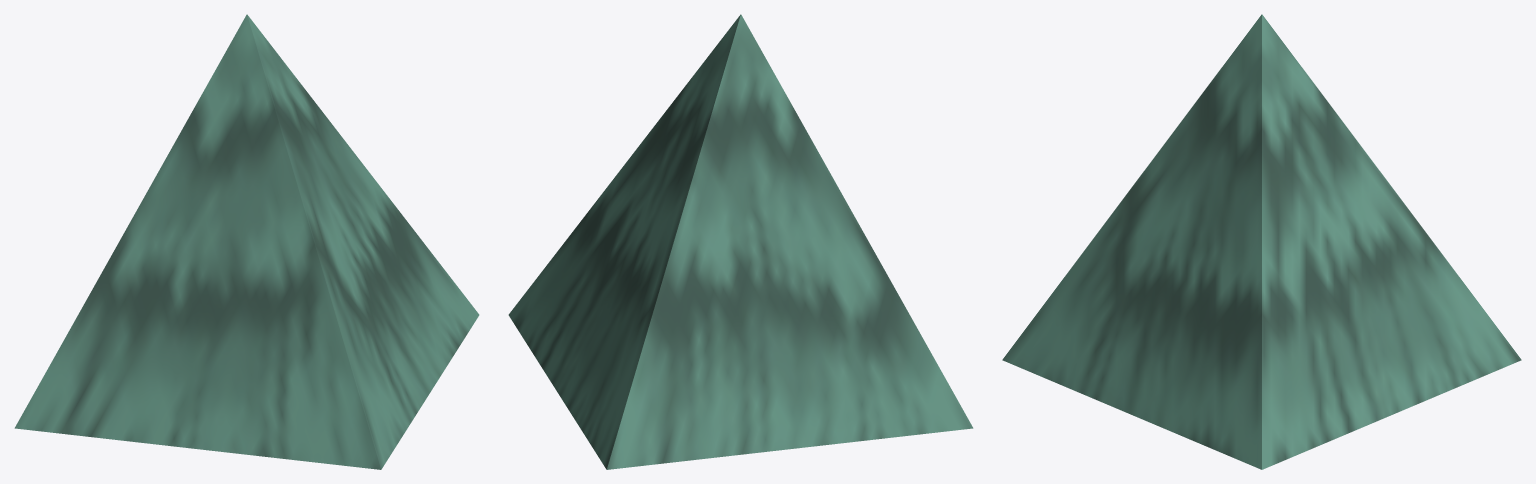
File: env_Coniferous_Part_C.FBX
The picture shows the model from 3 angles, left to right: view 1: azimuth 30°, elevation 25°; view 2: azimuth 150°, elevation 25°; view 3: azimuth 270°, elevation 25°; orthographic projection. The views are drawn at different scales.
Parts seen in each view (by area): view 1: env_Coniferous_Part_C; view 2: env_Coniferous_Part_C; view 3: env_Coniferous_Part_C.
Boxes of the visible parts, x1,y1,x2,y2 form: env_Coniferous_Part_C: [14, 14, 479, 469]; env_Coniferous_Part_C: [508, 14, 973, 469]; env_Coniferous_Part_C: [1002, 14, 1521, 469].
Bounding box in the file's own units: 427 × 314 × 427.
